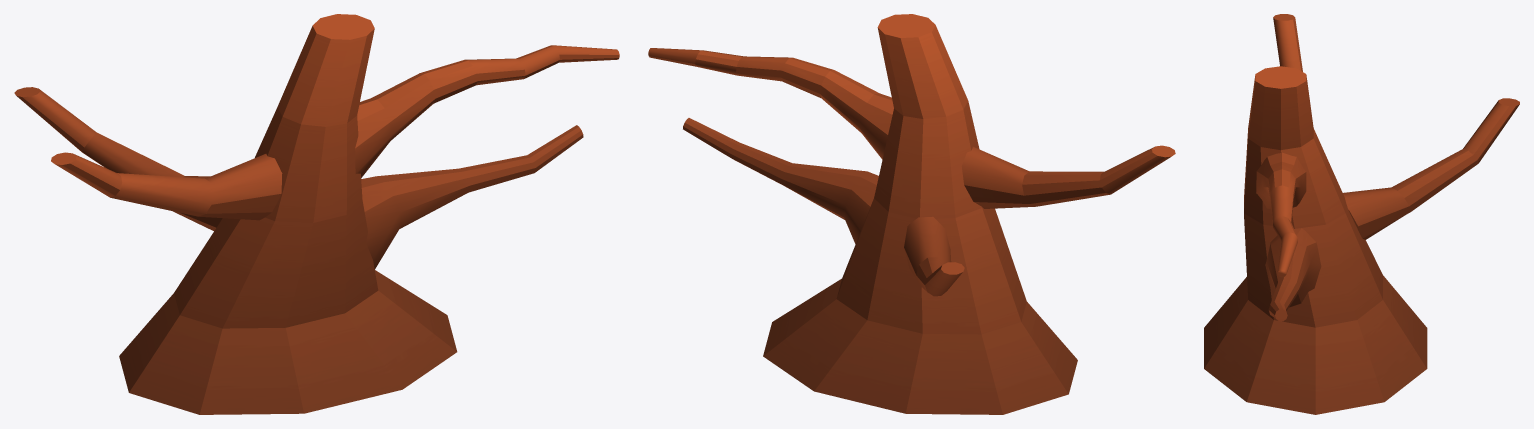
Rendered from Forest Tree.fbx.
3 views of the same model, side by side, from view 1: azimuth 30°, elevation 25°; view 2: azimuth 150°, elevation 25°; view 3: azimuth 270°, elevation 25° (orthographic). The views are drawn at different scales.
Parts seen in each view (by area): view 1: polySurface103; view 2: polySurface103; view 3: polySurface103.
Part boxes in pixels (box(x1,y1,x2,y2)): polySurface103: box(14, 14, 619, 414); polySurface103: box(648, 14, 1175, 414); polySurface103: box(1204, 14, 1519, 414).
Bounding box in the file's own units: 70.37 × 39.8 × 39.9.
Materials: 1 (1 with a texture image).
